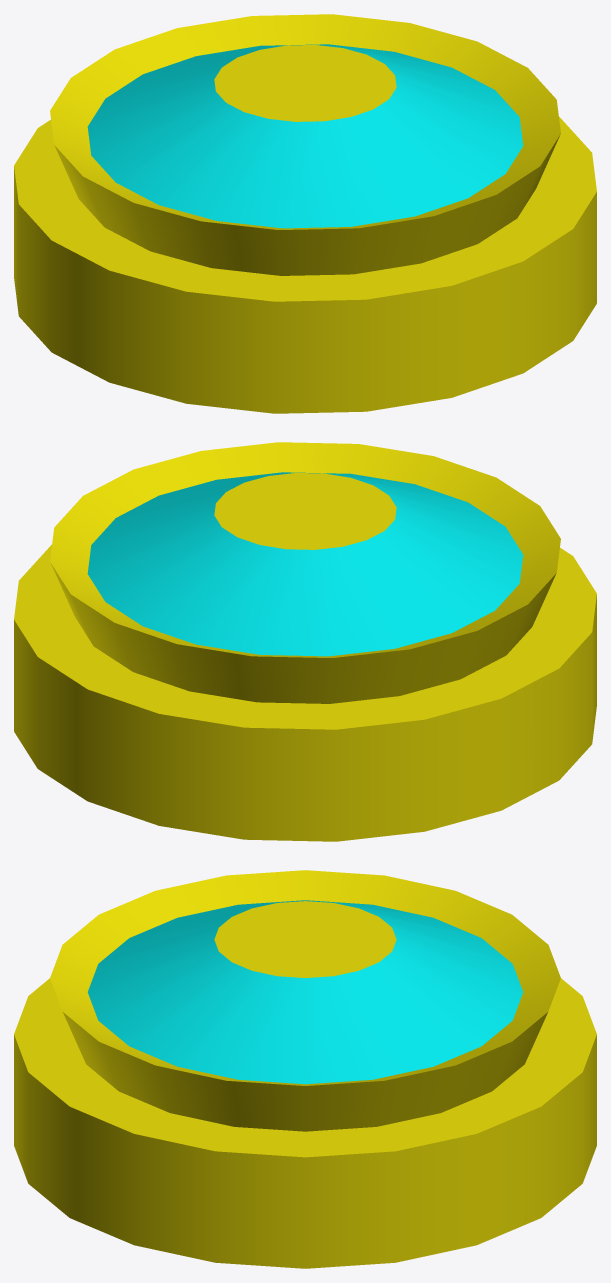
File: middle_platform.fbx
3 renders of one model, top to bottom at view 1: azimuth 30°, elevation 25°; view 2: azimuth 150°, elevation 25°; view 3: azimuth 270°, elevation 25°, orthographic.
Parts seen in each view (by area): view 1: pPipe1; view 2: pPipe1; view 3: pPipe1.
Boxes of the visible parts, box(x1,y1,x2,y2) form: pPipe1: box(14, 14, 596, 413); pPipe1: box(14, 442, 596, 841); pPipe1: box(14, 870, 596, 1268).
Bounding box in the file's own units: 377 × 147 × 377.
